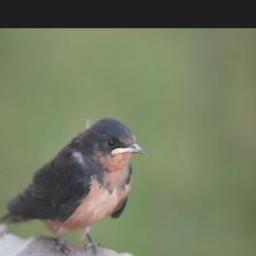Swallow: (0, 115, 145, 256)
